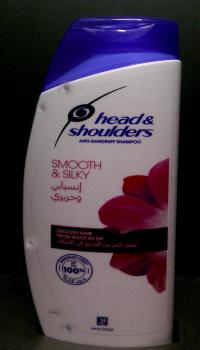dent_marginal: (23, 237, 40, 252), (62, 319, 75, 336), (59, 84, 76, 96), (36, 104, 52, 116), (45, 304, 59, 317)
